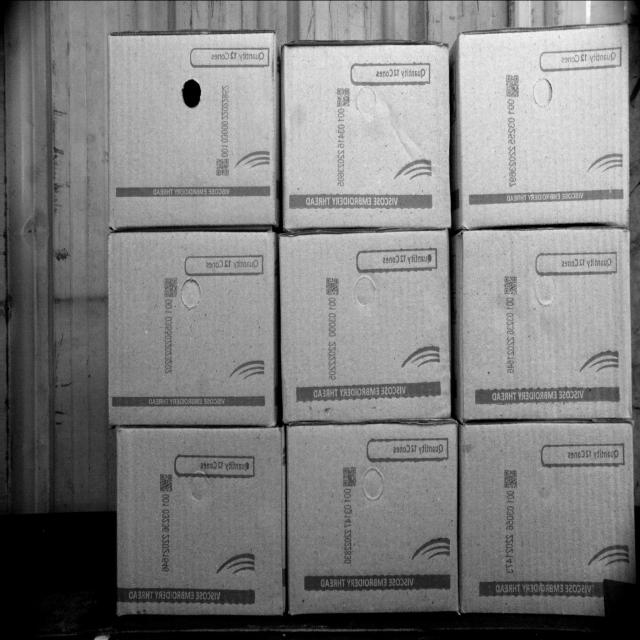cardboxes: (455, 20, 633, 229), (115, 417, 286, 623), (106, 29, 280, 226), (277, 229, 451, 425), (461, 229, 633, 425), (108, 223, 278, 419), (463, 417, 635, 609), (290, 426, 451, 623), (282, 42, 447, 232)
